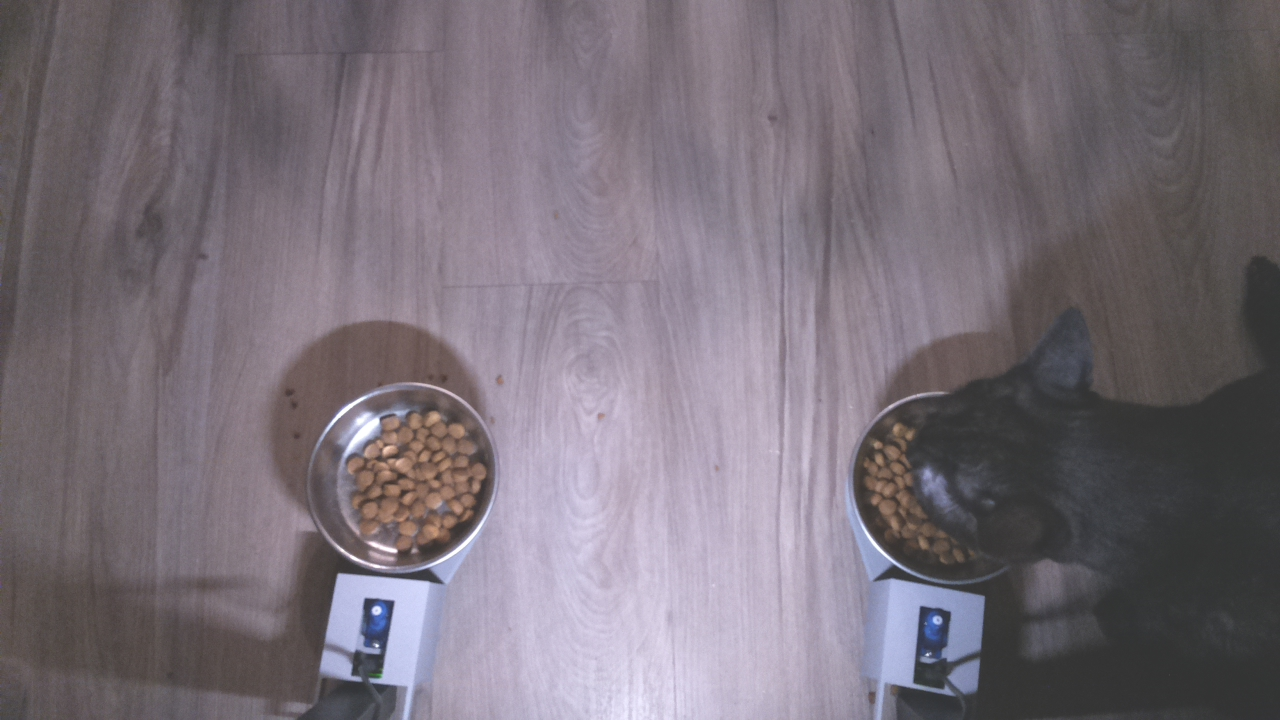open_bowl: (307, 380, 495, 573)
saki_eating: (849, 299, 1136, 596)
